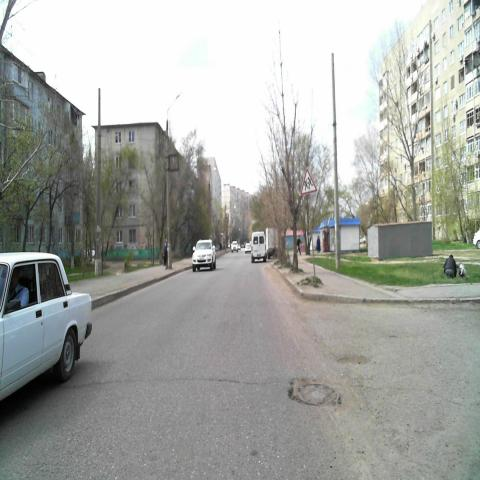1_23: (300, 168, 318, 194)
